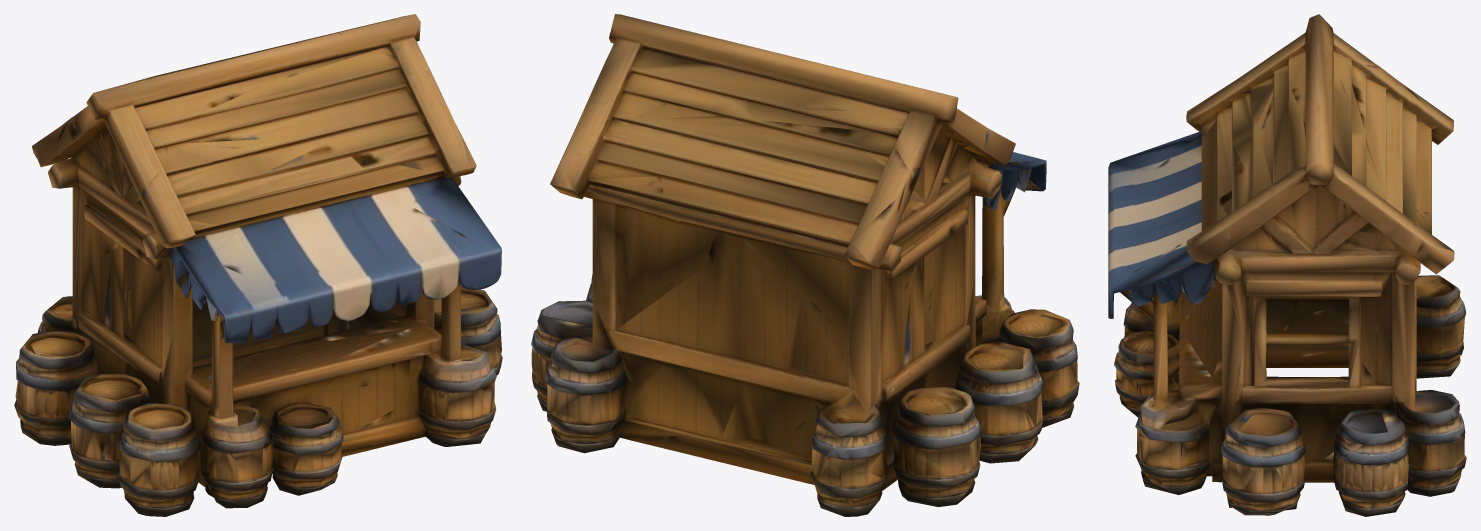
File: trading_post.glb
3 renders of one model, left to right at view 1: azimuth 30°, elevation 25°; view 2: azimuth 150°, elevation 25°; view 3: azimuth 270°, elevation 25°, orthographic. The views are drawn at different scales.
Visible parts, largest first — view 1: node_0; view 2: node_0; view 3: node_0.
Boxes of the visible parts, x1=… form: node_0: x1=14, y1=14, x2=502, y2=516; node_0: x1=531, y1=14, x2=1079, y2=516; node_0: x1=1108, y1=14, x2=1466, y2=516.
Bounding box in the file's own units: 0.9044 × 0.727 × 0.7015.
Materials: 1 (1 with a texture image).
